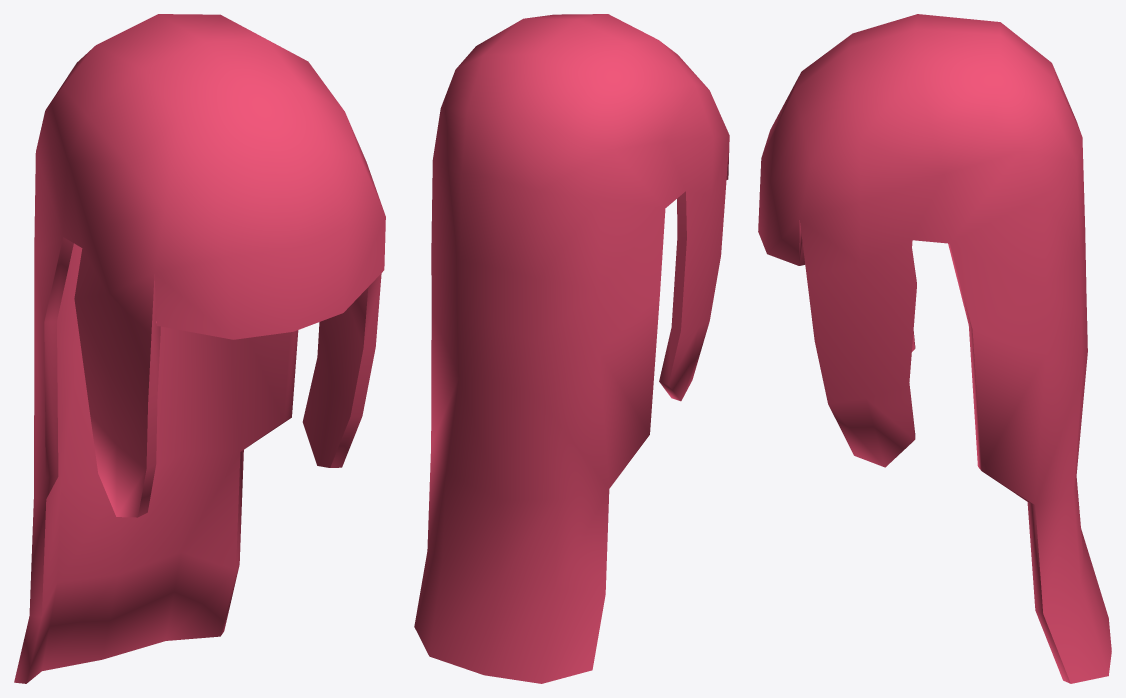
File: Hair_7.FBX
The picture shows the model from 3 angles, left to right: view 1: azimuth 30°, elevation 25°; view 2: azimuth 150°, elevation 25°; view 3: azimuth 270°, elevation 25°; orthographic projection. The views are drawn at different scales.
Visible parts, largest first — view 1: Hair_7; view 2: Hair_7; view 3: Hair_7.
Part boxes in pixels (bbox=[...]): Hair_7: bbox=[14, 14, 385, 683]; Hair_7: bbox=[414, 14, 729, 683]; Hair_7: bbox=[758, 14, 1111, 683].
Bounding box in the file's own units: 0.1718 × 0.4356 × 0.2245.
